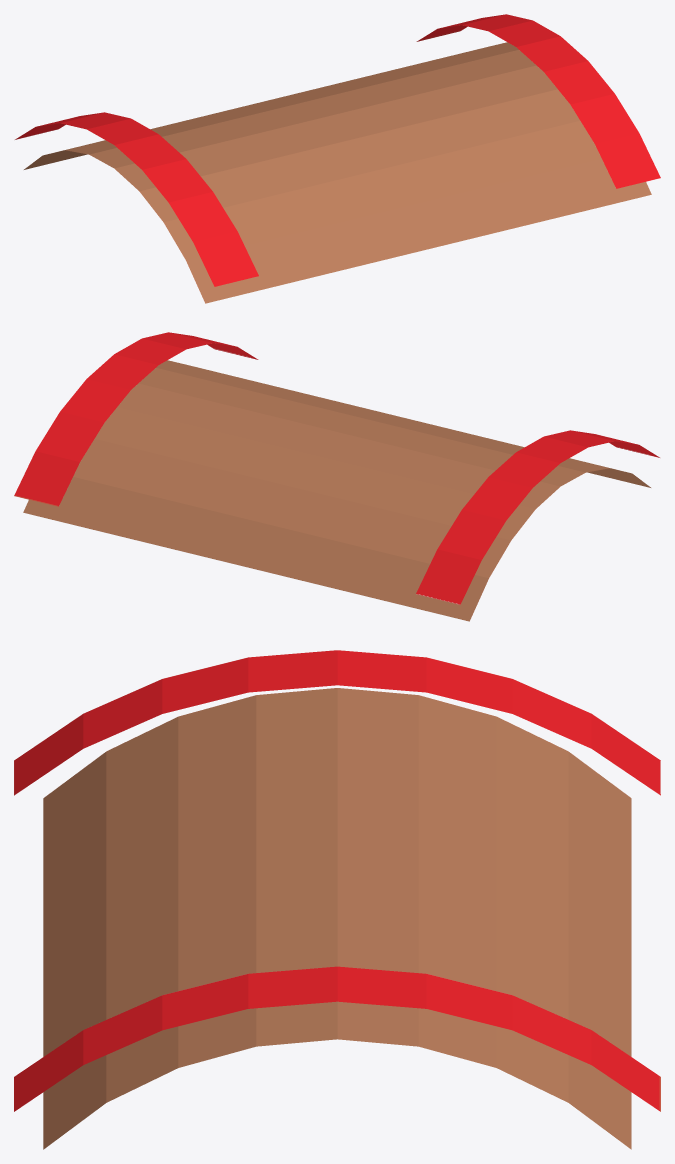
Rendered from Bridge.obj.
3 views of the same model, one above another, from view 1: azimuth 30°, elevation 25°; view 2: azimuth 150°, elevation 25°; view 3: azimuth 270°, elevation 25° (orthographic). The views are drawn at different scales.
Visible parts, largest first — view 1: Cylinder.001, Cylinder, Cylinder.002; view 2: Cylinder.001, Cylinder, Cylinder.002; view 3: Cylinder.001, Cylinder, Cylinder.002.
Boxes of the visible parts, x1,y1,x2,y2 form: Cylinder.001: (24,42,651,303); Cylinder: (15,112,258,286); Cylinder.002: (416,14,660,188); Cylinder.001: (23,360,650,621); Cylinder: (416,430,659,604); Cylinder.002: (14,332,258,506); Cylinder.001: (43,688,631,1149); Cylinder: (14,650,660,795); Cylinder.002: (14,966,660,1111).
Bounding box in the file's own units: 2 × 0.3929 × 1.56.
